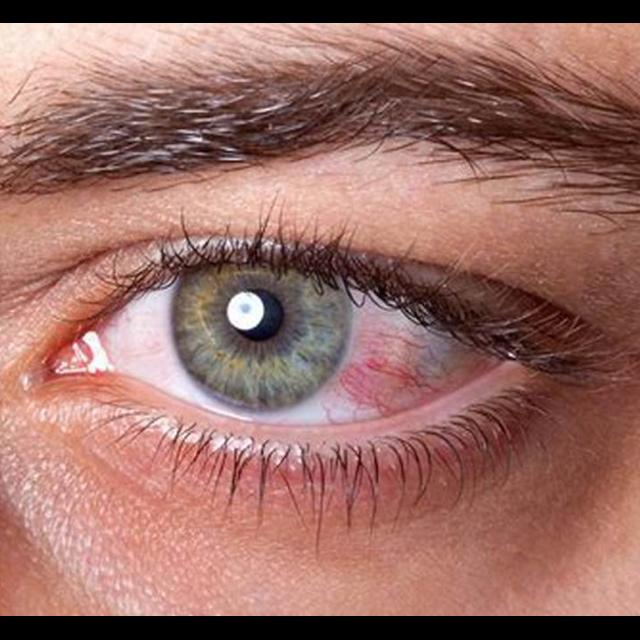eye: (112, 263, 497, 430)
iris: (172, 266, 353, 414)
